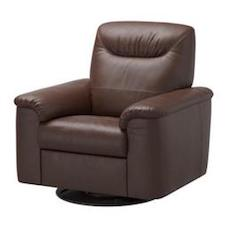chair: (4, 10, 206, 217)
